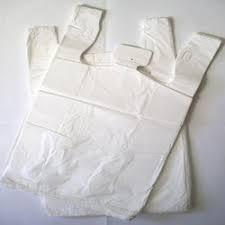Plastic bag: (5, 5, 219, 220)
